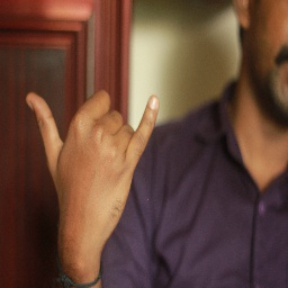J: (24, 73, 160, 232)
